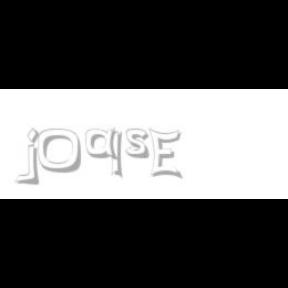E: (148, 128, 181, 180)
O: (38, 128, 83, 174)
a: (86, 128, 122, 160)
j: (24, 128, 54, 186)
l: (111, 128, 127, 180)
s: (126, 128, 154, 160)
